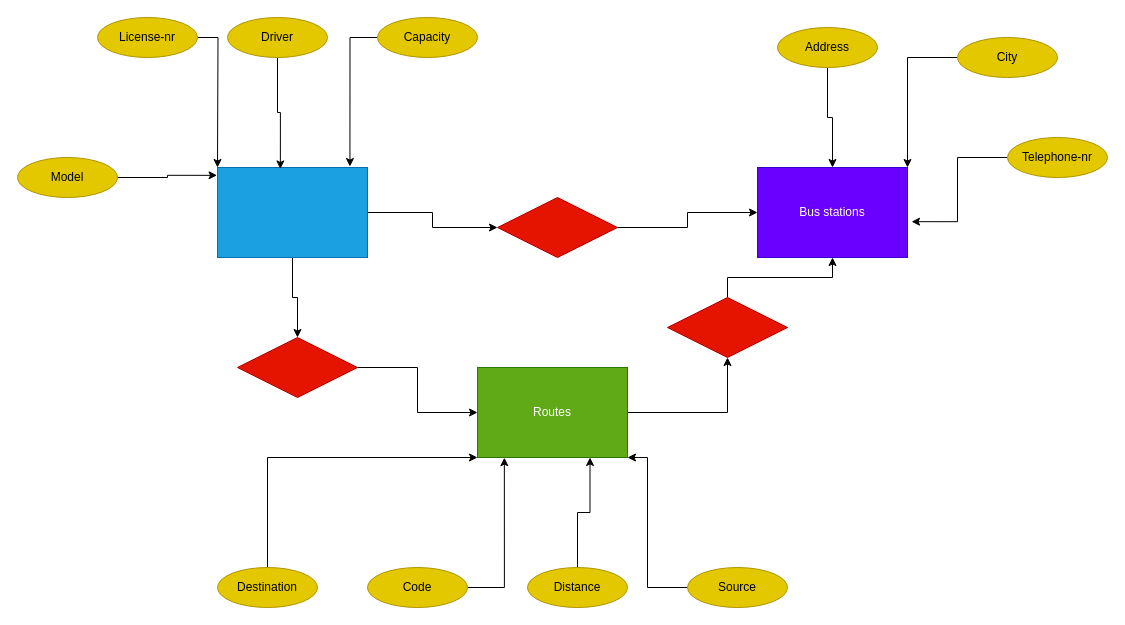
This 1125x625 diagram has some shape labels left out. Here are the shapes that lost their labels. From the top down, the centre of each, then its label:
At (292,212): "Busses".
At (557,227): "visit".
At (727,327): "Have".
At (297,367): "cover".
